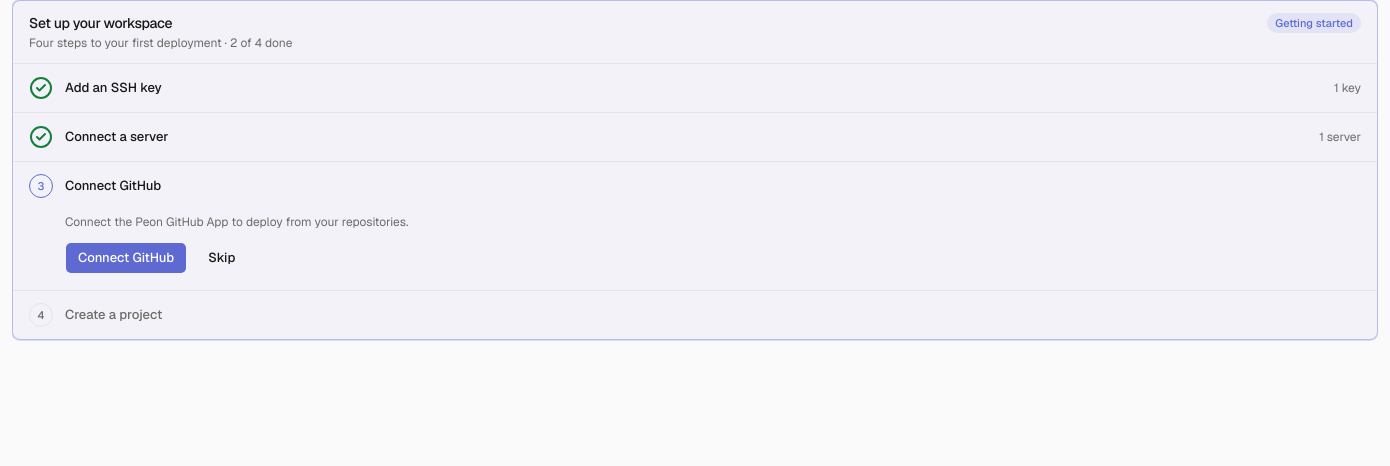
Test: SetupWizard › persists a GitHub skip and moves to the project step when it is missing
This screenshot has width=1390, height=466.
Expected: the heading "Set up your workspace" is shown, [29, 14, 172, 32]
Click the button "Skip": x=222, y=258 [195, 242, 248, 274]
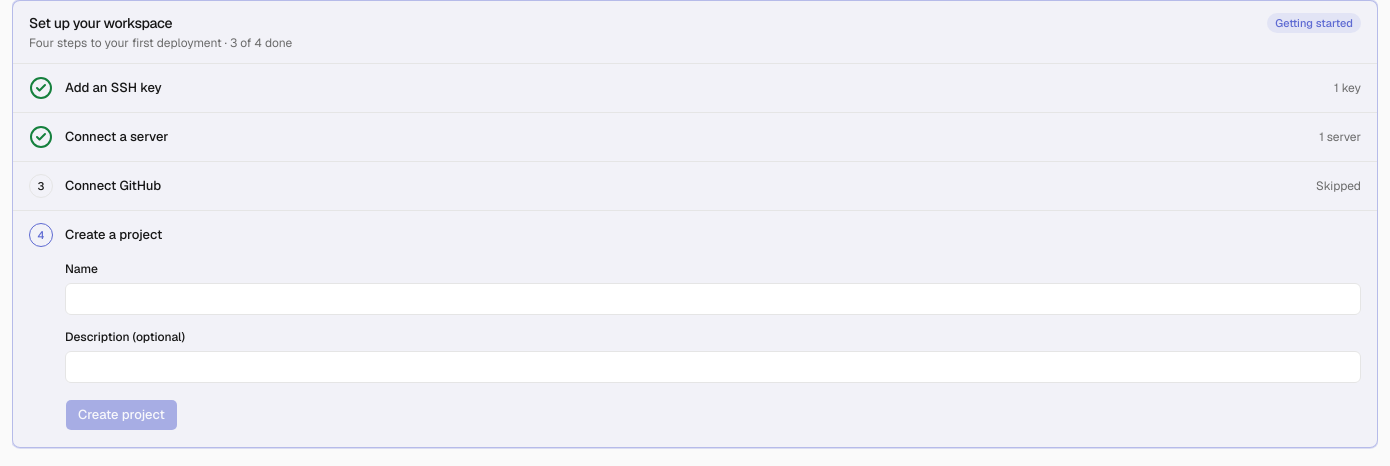
Expected: the list item "3 Connect GitHub Skipped" is shown
It can be reopened to connect later.
Click the button "3 Connect GitHub Skipped": x=113, y=186 [13, 162, 1377, 210]
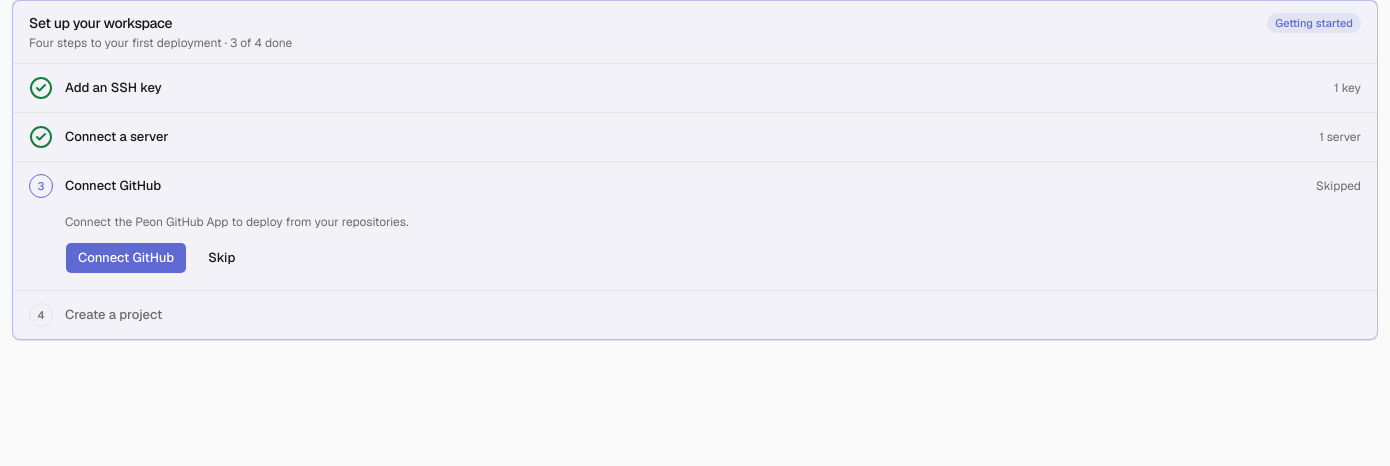
Expected: the button "Connect GitHub" is shown, [65, 242, 187, 274]
